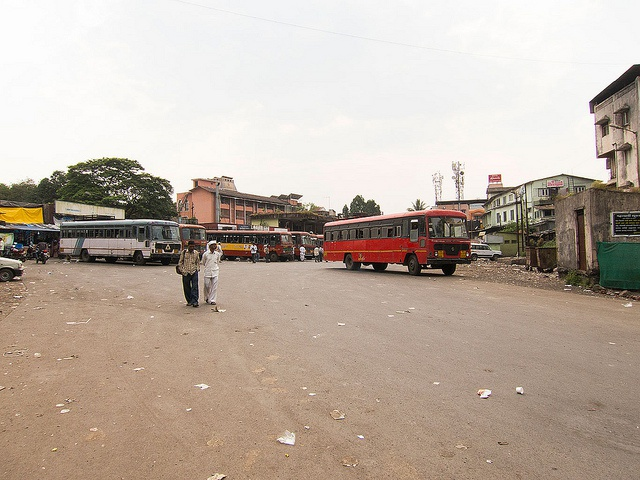non-vehicle: (35, 242, 51, 264), (7, 246, 26, 261)
